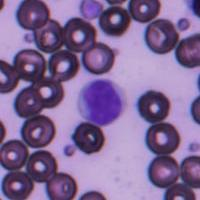L: (77, 76, 127, 126)
